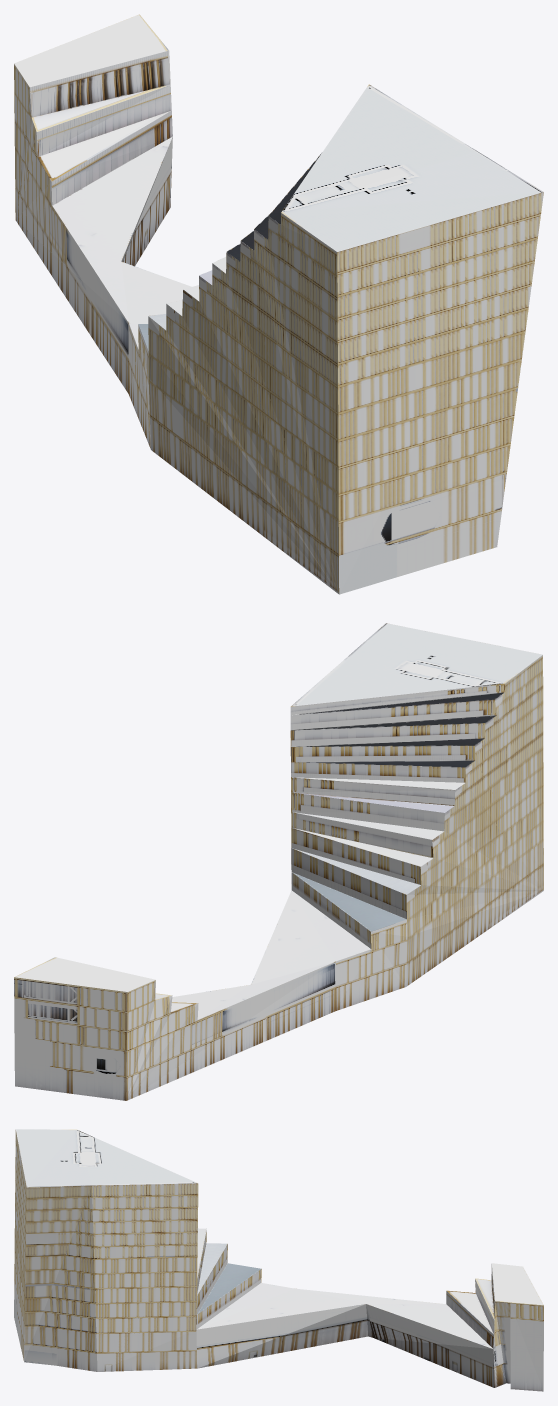
The picture shows the model from 3 angles, top to bottom: view 1: azimuth 30°, elevation 25°; view 2: azimuth 150°, elevation 25°; view 3: azimuth 270°, elevation 25°; orthographic projection. The views are drawn at different scales.
Parts seen in each view (by area): view 1: 5.02copy; view 2: 5.02copy; view 3: 5.02copy.
Boxes of the visible parts, x1,y1,x2,y2 form: 5.02copy: (14,14,543,594); 5.02copy: (14,623,543,1100); 5.02copy: (14,1129,543,1391).
Size of the model in its own units: 46.86 by 53.98 by 138.
Materials: 1 (1 with a texture image).
